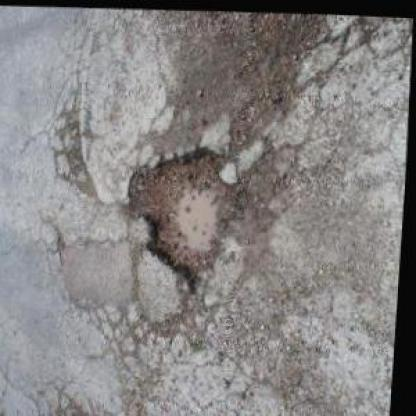pothole: (115, 135, 251, 291)
